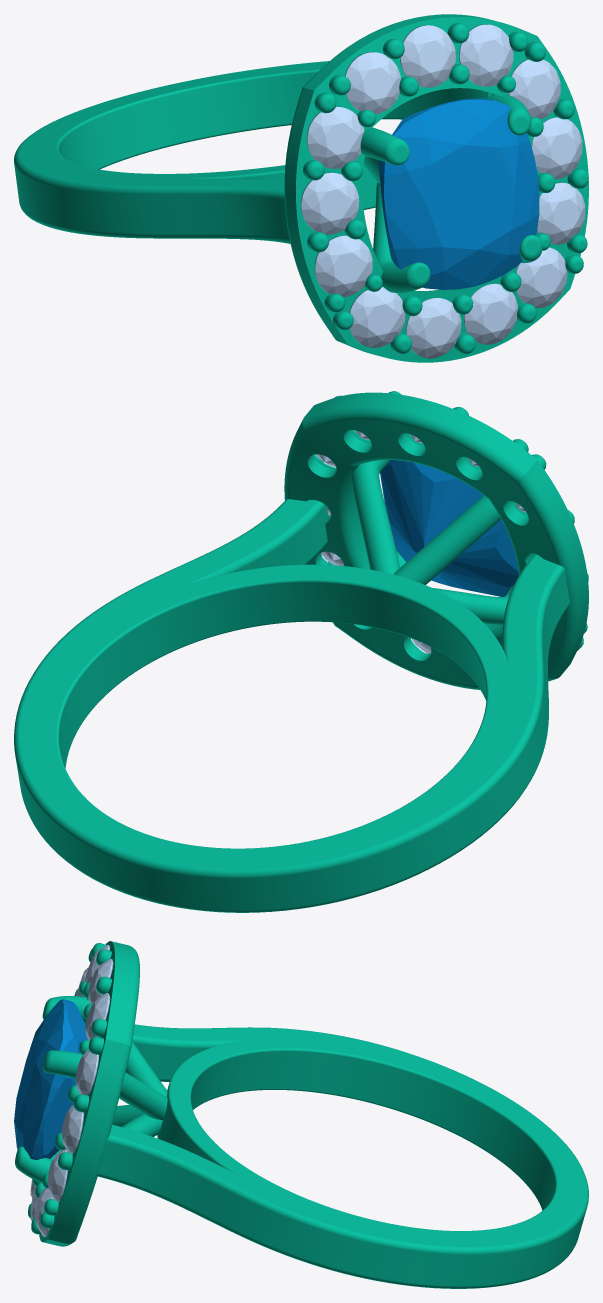
3 renders of one model, top to bottom at view 1: azimuth 30°, elevation 25°; view 2: azimuth 150°, elevation 25°; view 3: azimuth 270°, elevation 25°, orthographic. The views are drawn at different scales.
Parts seen in each view (by area): view 1: VR-62(base).3dm, Diamond_Round (×13), Diamond_Cushion Square; view 2: VR-62(base).3dm, Diamond_Cushion Square; view 3: VR-62(base).3dm, Diamond_Cushion Square, Diamond_Round (×5).
Part boxes in pixels (bbox=[...]): VR-62(base).3dm: bbox=[14, 14, 588, 362]; Diamond_Round (×13): bbox=[301, 24, 585, 358]; Diamond_Cushion Square: bbox=[378, 98, 539, 289]; VR-62(base).3dm: bbox=[14, 392, 588, 912]; Diamond_Cushion Square: bbox=[380, 460, 518, 596]; VR-62(base).3dm: bbox=[15, 941, 588, 1288]; Diamond_Cushion Square: bbox=[14, 999, 87, 1160]; Diamond_Round (×5): bbox=[47, 958, 113, 1202].
Bounding box in the file's own units: 2.34 × 1.5 × 2.88.
